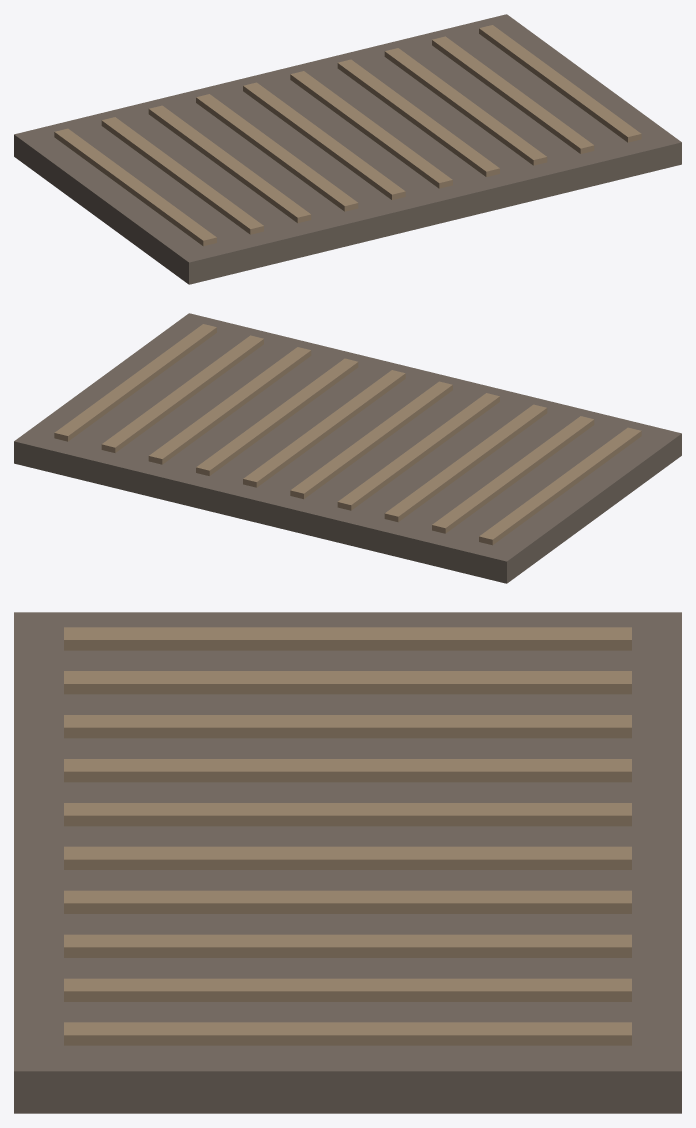
Rendered from doormat.glb.
3 views of the same model, one above another, from view 1: azimuth 30°, elevation 25°; view 2: azimuth 150°, elevation 25°; view 3: azimuth 270°, elevation 25° (orthographic). The views are drawn at different scales.
Visible parts, largest first — view 1: body; view 2: body; view 3: body.
Boxes of the visible parts, x1,y1,x2,y2 form: body: (14, 14, 681, 284); body: (14, 313, 681, 583); body: (14, 612, 681, 1113).
Size of the model in its own units: 0.65 by 0.035 by 0.4.
